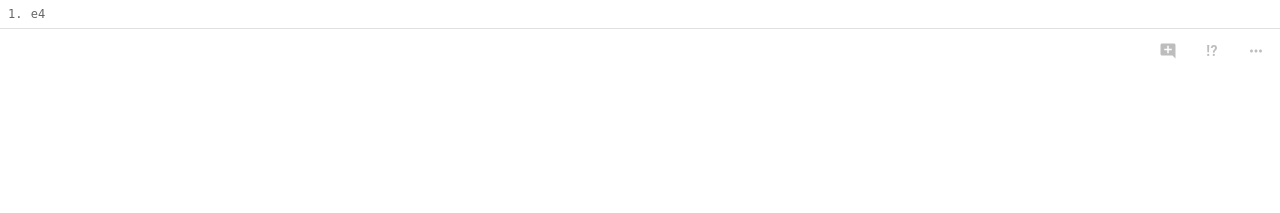
Test case: MoveNotation context-menu palette › reveals the bonus row via "More symbols…"
Right-click the text "e4": (38, 14) [31,7,45,21]
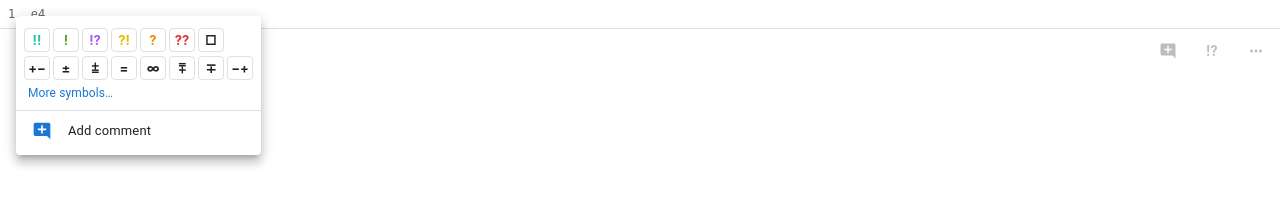
Click the button "More symbols…": (71, 93) [24,84,117,102]
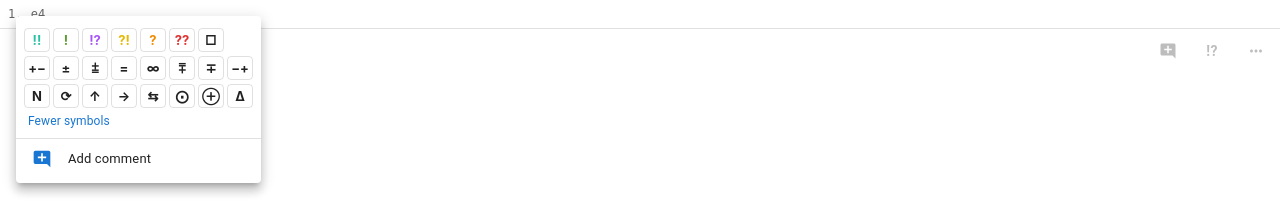
Expected: the button with test id "nag-chip-146" is shown, [24,84,50,108]
Expected: the text "Fewer symbols" is shown, [28,112,110,130]
